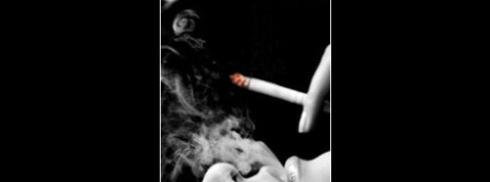Cigarette: (234, 72, 310, 102)
Smoke: (192, 122, 289, 180)
